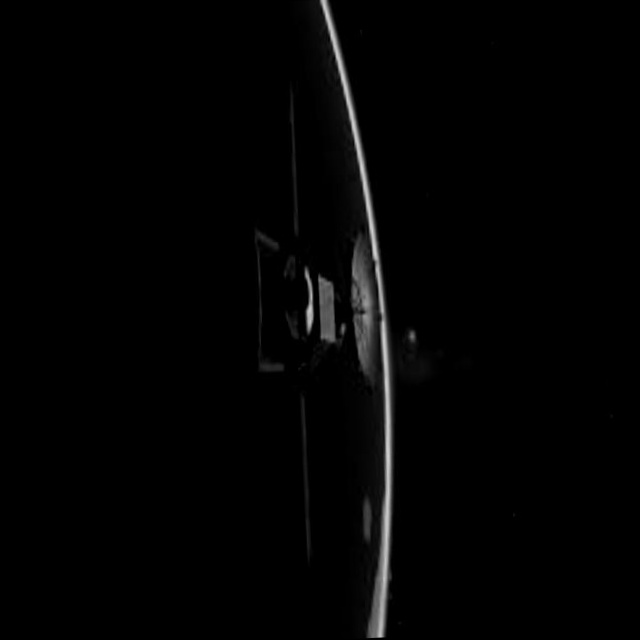satellite: (221, 0, 417, 640)
